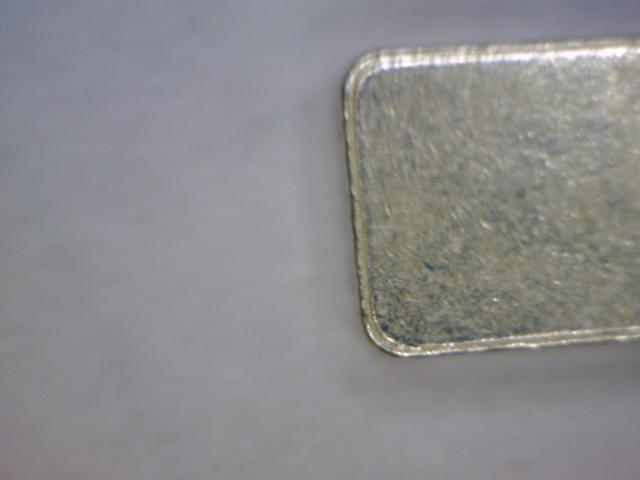nok: (336, 32, 636, 360)
